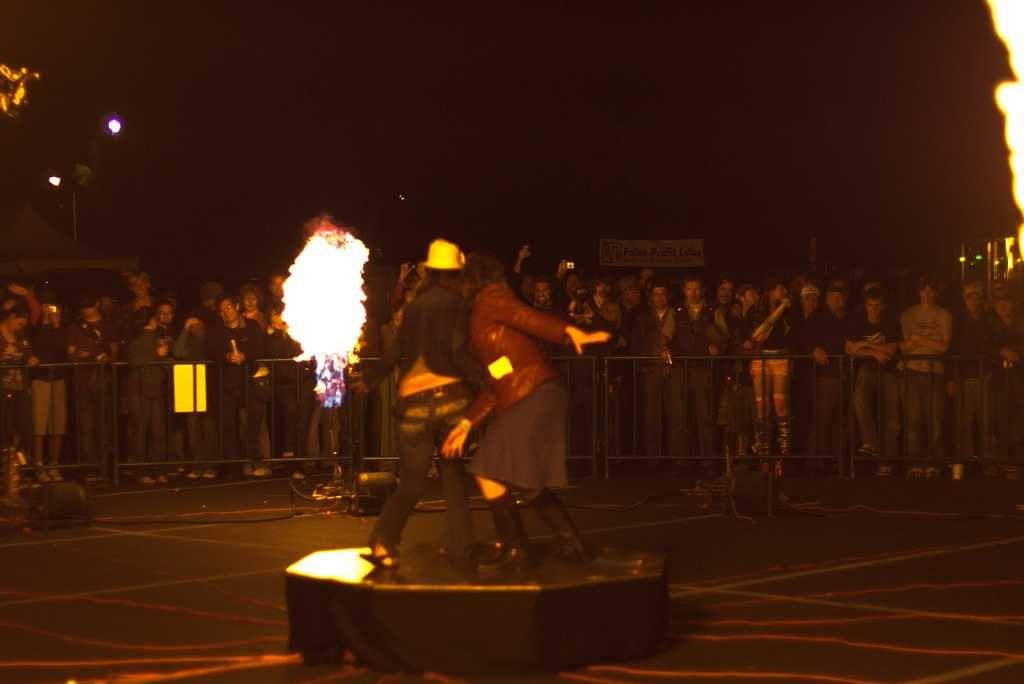fire: (284, 225, 383, 403)
